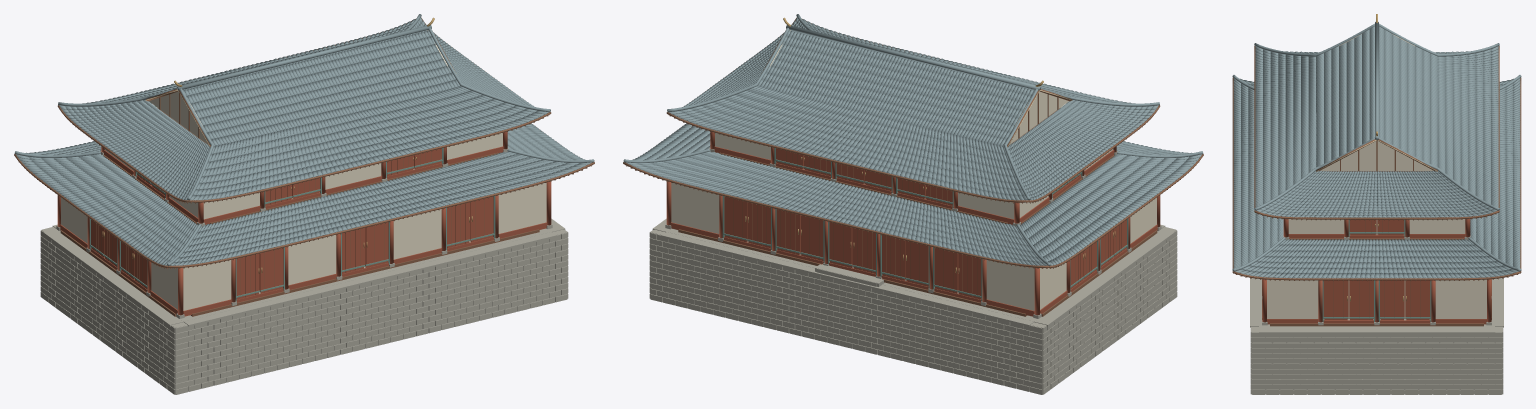
The model's file is Keep_LOD0.fbx.
The picture shows the model from 3 angles, left to right: view 1: azimuth 30°, elevation 25°; view 2: azimuth 150°, elevation 25°; view 3: azimuth 270°, elevation 25°; orthographic projection. The views are drawn at different scales.
Parts seen in each view (by area): view 1: Keep_Detail0_Roof, Keep_Detail0_Stone, Keep_Detail0_Vermilion, Keep_Detail0_Plaster, Keep_Detail0_Timber, Keep_Detail0_Jade; view 2: Keep_Detail0_Roof, Keep_Detail0_Stone, Keep_Detail0_Vermilion, Keep_Detail0_Plaster, Keep_Detail0_Timber, Keep_Detail0_Jade; view 3: Keep_Detail0_Roof, Keep_Detail0_Stone, Keep_Detail0_Vermilion, Keep_Detail0_Plaster, Keep_Detail0_Timber, Keep_Detail0_Jade.
Part boxes in pixels (x1,y1,x2,y2): Keep_Detail0_Roof: (14, 14, 594, 266); Keep_Detail0_Stone: (40, 148, 568, 394); Keep_Detail0_Vermilion: (57, 131, 551, 316); Keep_Detail0_Plaster: (61, 30, 546, 316); Keep_Detail0_Timber: (14, 17, 594, 316); Keep_Detail0_Jade: (89, 105, 495, 301); Keep_Detail0_Roof: (623, 14, 1203, 266); Keep_Detail0_Stone: (649, 148, 1177, 394); Keep_Detail0_Vermilion: (666, 131, 1160, 316); Keep_Detail0_Plaster: (671, 30, 1156, 316); Keep_Detail0_Timber: (623, 17, 1203, 316); Keep_Detail0_Jade: (722, 105, 1128, 301); Keep_Detail0_Roof: (1232, 22, 1521, 278); Keep_Detail0_Stone: (1250, 235, 1503, 394); Keep_Detail0_Vermilion: (1262, 218, 1491, 324); Keep_Detail0_Plaster: (1267, 34, 1486, 324); Keep_Detail0_Timber: (1232, 46, 1521, 326); Keep_Detail0_Jade: (1322, 219, 1431, 321).
Size of the model in its own units: 53.44 by 29.72 by 33.47.
